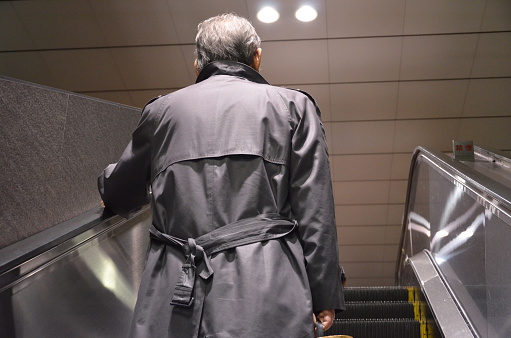em pe: (94, 17, 350, 338)
